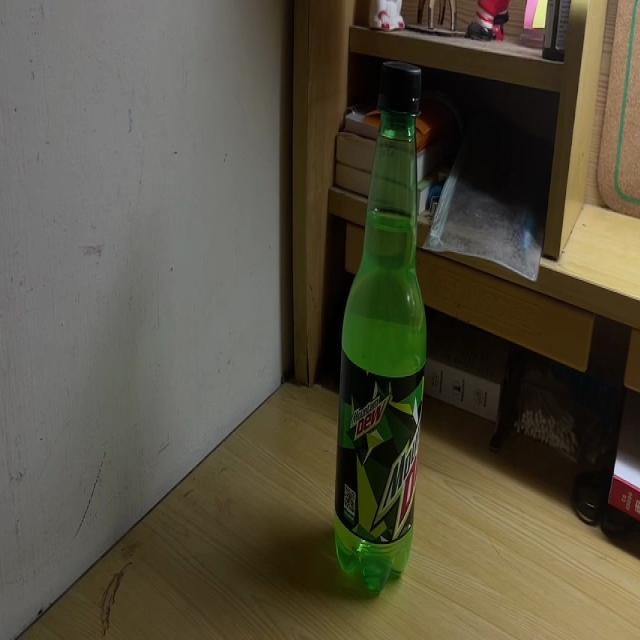Mountain-Dew: (335, 59, 427, 597)
